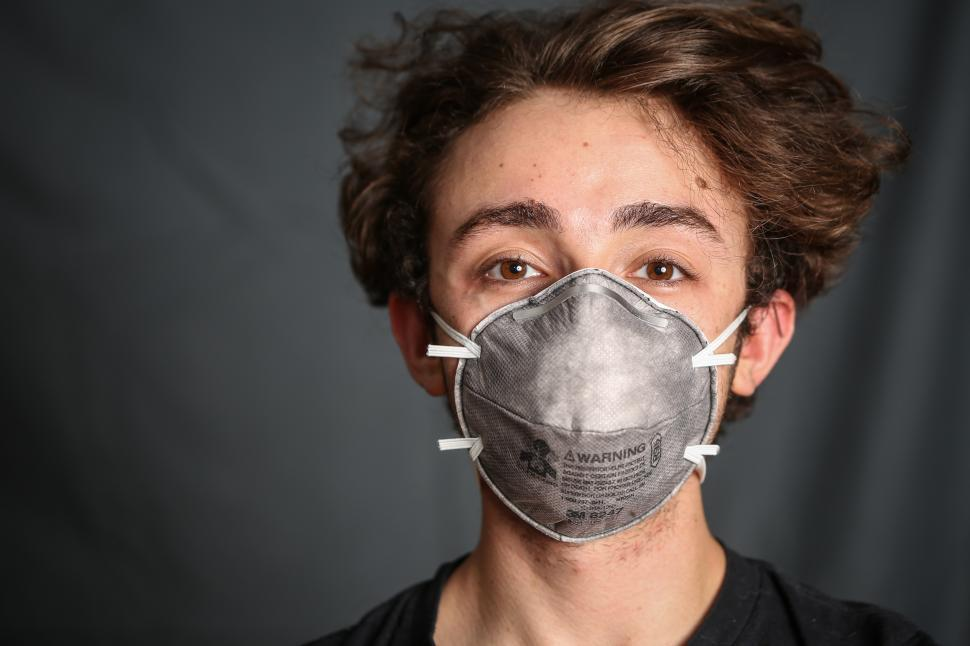with_mask: (356, 35, 811, 546)
